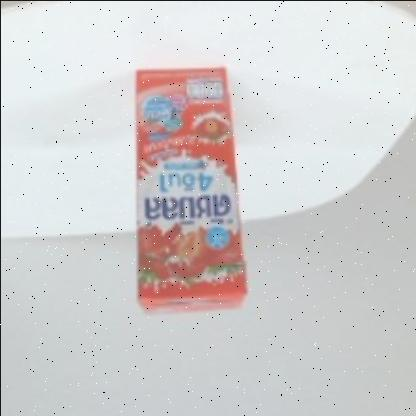Others: (120, 58, 256, 318)
